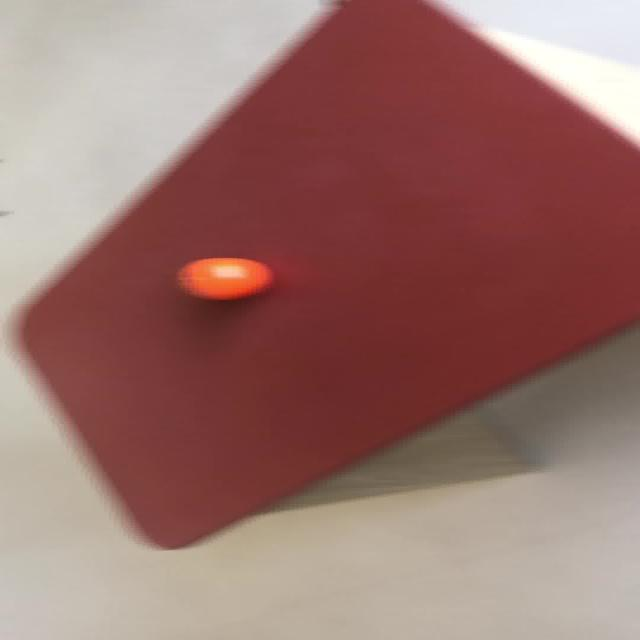orange: (19, 0, 638, 550), (175, 256, 273, 301)
